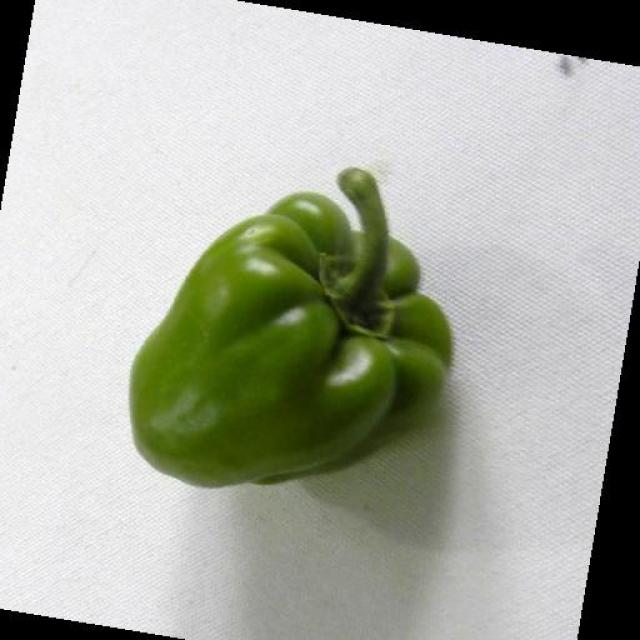Fresh_Capsicum: (89, 175, 471, 487)
